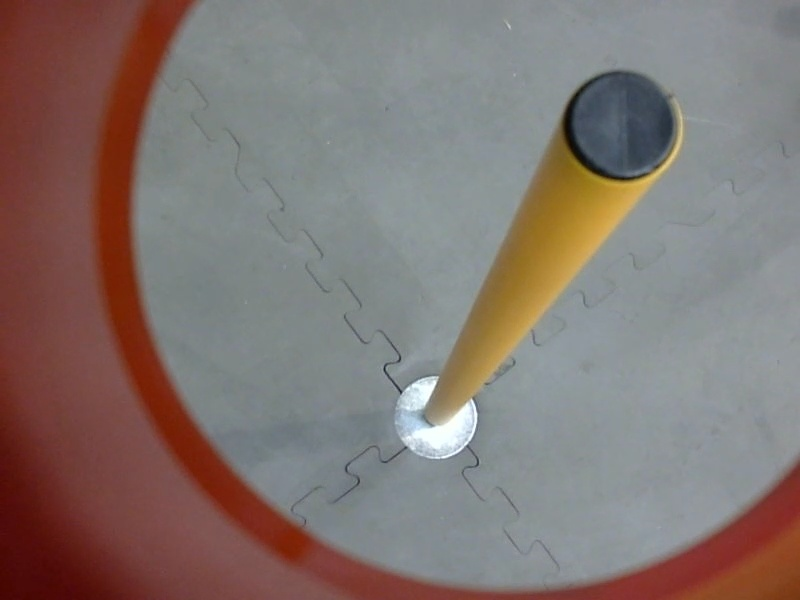tip: (551, 56, 689, 190)
